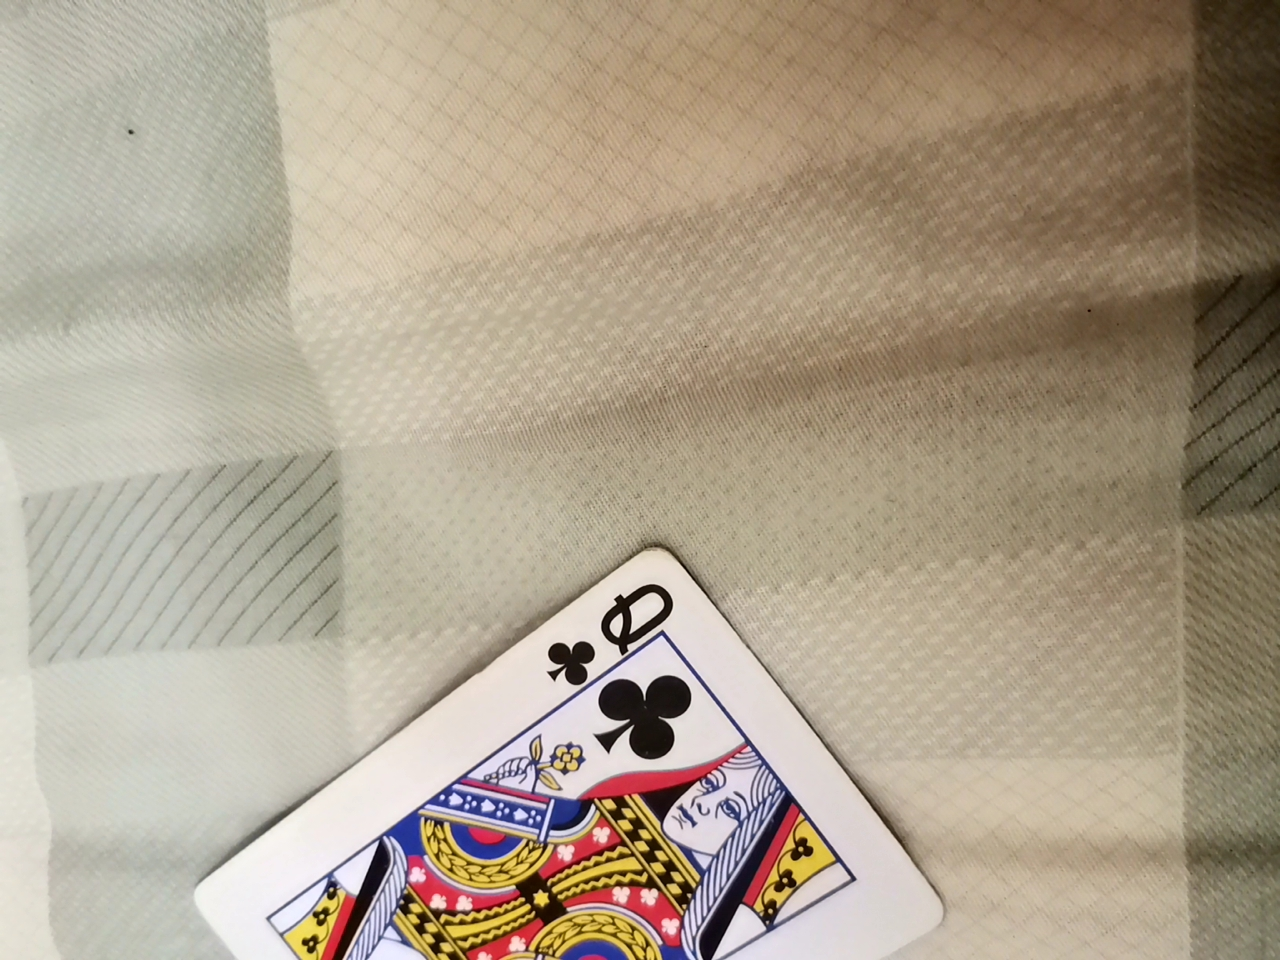mh q: (124, 550, 985, 956)
